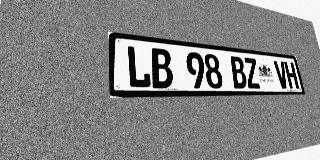8: (203, 53, 224, 88)
9: (185, 51, 207, 88)
B: (150, 48, 174, 88), (229, 56, 248, 88)
H: (284, 62, 299, 89)
L: (126, 45, 152, 88)
V: (273, 60, 289, 89)
Z: (243, 57, 261, 88)
